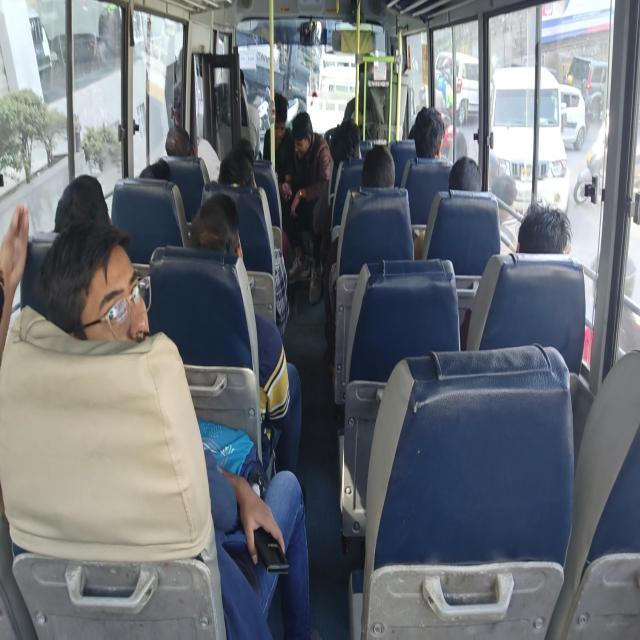person: (56, 248, 150, 346), (506, 194, 572, 270), (57, 167, 116, 240), (193, 206, 240, 268), (138, 153, 189, 203), (172, 80, 210, 137), (346, 46, 386, 98), (362, 149, 398, 200), (222, 50, 256, 97), (220, 159, 260, 197), (444, 161, 484, 198), (419, 106, 441, 156), (162, 128, 194, 162), (268, 100, 288, 151), (336, 121, 361, 160), (293, 121, 314, 166)
